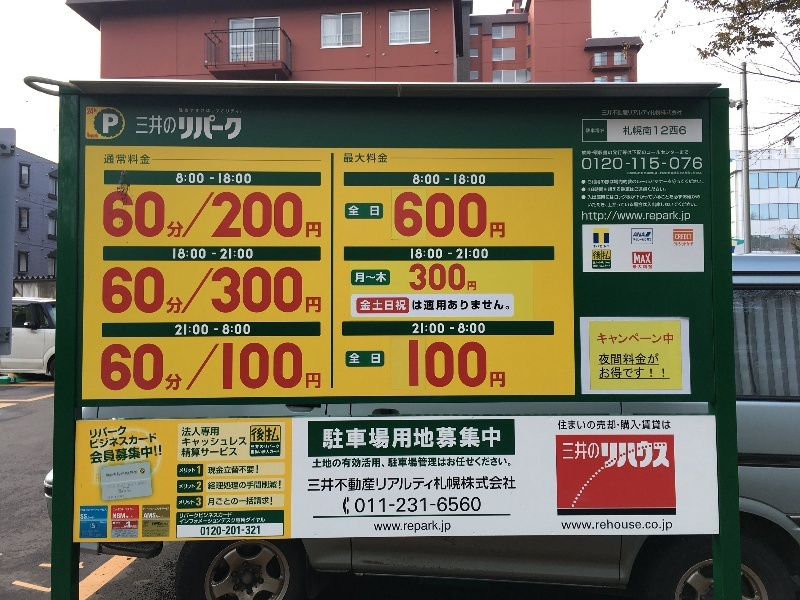text: (305, 343, 321, 392), (305, 268, 321, 315), (113, 343, 128, 392), (129, 343, 144, 392), (145, 343, 160, 392), (161, 343, 176, 392), (177, 343, 192, 392), (193, 343, 208, 392), (209, 343, 224, 392), (225, 343, 240, 392), (241, 343, 256, 392), (257, 343, 272, 392), (273, 343, 288, 392), (289, 343, 304, 392), (417, 340, 432, 388), (433, 340, 448, 388), (449, 340, 464, 388), (465, 340, 480, 388), (481, 340, 496, 388), (401, 192, 416, 239), (417, 192, 432, 239), (433, 192, 448, 239), (449, 192, 464, 239), (465, 192, 480, 239), (481, 192, 496, 239), (113, 192, 128, 239), (129, 192, 144, 239), (145, 192, 160, 239), (161, 192, 176, 239), (177, 192, 192, 239), (193, 192, 208, 239), (209, 192, 224, 239), (225, 192, 240, 239), (241, 192, 256, 239), (257, 192, 272, 239), (273, 192, 288, 239), (289, 192, 304, 239), (305, 192, 320, 239), (113, 268, 128, 315), (129, 268, 144, 315), (145, 268, 160, 315), (161, 268, 176, 315), (177, 268, 192, 315), (193, 268, 208, 315), (209, 268, 224, 315), (225, 268, 240, 315), (241, 268, 256, 315), (257, 268, 272, 315), (273, 268, 288, 315), (289, 268, 304, 315), (102, 343, 112, 392), (103, 268, 112, 315), (577, 441, 592, 469), (593, 441, 608, 469), (609, 441, 624, 469), (625, 441, 640, 469), (641, 441, 656, 469), (417, 264, 432, 291), (433, 264, 448, 291), (449, 264, 464, 291), (145, 115, 160, 141), (161, 115, 176, 141), (177, 115, 192, 141), (193, 115, 208, 141), (209, 115, 224, 141), (225, 115, 240, 141), (497, 340, 505, 388), (497, 192, 505, 239), (563, 441, 576, 469), (337, 427, 352, 451), (353, 427, 368, 451), (369, 427, 384, 451), (385, 427, 400, 451), (401, 427, 416, 451), (417, 427, 432, 451), (433, 427, 448, 451), (449, 427, 464, 451), (465, 427, 480, 451), (481, 427, 496, 451), (657, 441, 669, 469), (409, 340, 416, 388), (322, 427, 336, 451), (105, 192, 112, 239), (97, 444, 112, 465), (113, 444, 128, 465), (129, 444, 144, 465), (145, 444, 160, 465), (465, 264, 476, 291), (394, 192, 400, 239), (465, 497, 481, 513), (321, 476, 336, 493), (337, 476, 352, 493), (353, 476, 368, 493), (369, 476, 384, 493), (385, 476, 400, 493), (401, 476, 416, 493), (417, 476, 432, 493), (433, 476, 448, 493), (449, 476, 464, 493), (465, 476, 480, 493), (481, 476, 496, 493), (497, 476, 512, 493), (97, 433, 112, 450), (113, 433, 128, 450), (129, 433, 144, 450), (369, 497, 384, 513), (385, 497, 400, 513), (401, 497, 416, 513), (417, 497, 432, 513), (433, 497, 448, 513), (449, 497, 464, 513), (257, 428, 272, 442), (97, 425, 112, 439), (136, 115, 144, 141), (308, 476, 320, 493), (145, 433, 157, 450), (385, 520, 400, 533), (401, 520, 416, 533), (417, 520, 432, 533), (433, 520, 448, 533), (609, 353, 624, 366), (625, 353, 640, 366), (641, 353, 656, 366), (321, 457, 336, 470), (337, 457, 352, 470), (353, 457, 368, 470), (369, 457, 384, 470), (385, 457, 400, 470), (401, 457, 416, 470), (417, 457, 432, 470), (433, 457, 448, 470), (449, 457, 464, 470), (465, 457, 480, 470), (481, 457, 496, 470), (356, 497, 368, 513), (657, 519, 673, 531), (409, 264, 416, 291), (497, 457, 511, 470), (113, 425, 126, 439), (577, 519, 592, 531), (593, 519, 608, 531), (609, 519, 624, 531), (625, 519, 640, 531), (641, 519, 656, 531), (609, 333, 624, 345), (625, 333, 640, 345), (641, 333, 656, 345), (657, 333, 672, 345), (593, 158, 608, 170), (609, 158, 624, 170), (625, 158, 640, 170), (641, 158, 656, 170), (657, 158, 672, 170), (673, 158, 688, 170), (103, 114, 112, 133), (562, 519, 576, 531), (689, 158, 703, 170), (609, 368, 624, 379), (625, 368, 640, 379), (641, 368, 656, 379), (417, 174, 432, 185), (433, 174, 448, 185), (449, 174, 464, 185), (465, 174, 480, 185), (417, 248, 432, 259), (433, 248, 448, 259), (449, 248, 464, 259), (465, 248, 480, 259), (369, 272, 384, 283), (369, 300, 384, 311), (385, 300, 400, 311), (417, 300, 432, 311), (433, 300, 448, 311), (449, 300, 464, 311), (465, 300, 480, 311), (481, 300, 496, 311), (353, 353, 368, 364), (113, 154, 128, 165), (129, 154, 144, 165), (177, 173, 192, 184), (193, 173, 208, 184), (209, 173, 224, 184), (225, 173, 240, 184), (177, 249, 192, 260), (193, 249, 208, 260), (209, 249, 224, 260), (225, 249, 240, 260), (177, 324, 192, 335), (193, 324, 208, 335), (209, 324, 224, 335), (225, 324, 240, 335), (209, 525, 224, 536), (225, 525, 240, 536), (241, 525, 256, 536), (561, 420, 576, 430), (577, 420, 592, 430), (593, 420, 608, 430), (609, 420, 624, 430), (625, 420, 640, 430), (641, 420, 656, 430), (593, 211, 608, 221), (609, 211, 624, 221), (625, 211, 640, 221), (641, 211, 656, 221), (657, 211, 672, 221), (673, 211, 688, 221), (625, 126, 640, 136), (641, 126, 656, 136), (657, 126, 672, 136), (353, 206, 368, 216), (417, 324, 432, 334), (433, 324, 448, 334), (449, 324, 464, 334), (465, 324, 480, 334), (193, 427, 208, 437), (193, 447, 208, 457), (209, 447, 224, 457), (209, 465, 224, 475), (225, 465, 240, 475), (241, 465, 256, 475), (355, 272, 368, 283), (657, 420, 671, 430), (593, 251, 608, 260), (353, 154, 368, 163), (369, 154, 384, 163), (193, 437, 208, 446), (209, 437, 224, 446), (225, 437, 240, 446), (209, 497, 224, 506), (225, 497, 240, 506), (241, 497, 256, 506), (257, 497, 272, 506), (209, 481, 224, 490), (225, 481, 240, 490), (241, 481, 256, 490), (257, 481, 272, 490), (597, 333, 608, 345), (497, 300, 509, 311), (241, 249, 253, 260), (374, 520, 384, 533), (598, 353, 608, 366), (673, 126, 686, 136), (225, 447, 238, 457), (179, 497, 192, 507), (90, 444, 96, 465), (369, 353, 380, 364), (241, 173, 252, 184), (582, 158, 592, 170), (497, 427, 502, 451), (193, 517, 208, 525), (209, 517, 224, 525), (225, 517, 240, 525), (241, 517, 256, 525), (179, 481, 192, 490), (113, 114, 119, 133), (312, 457, 320, 470), (179, 517, 192, 525), (179, 466, 192, 474), (90, 433, 96, 450), (641, 253, 651, 263), (582, 211, 592, 221), (369, 206, 379, 216), (182, 427, 192, 437), (209, 427, 219, 437), (182, 447, 192, 457), (599, 368, 608, 379), (241, 324, 250, 335), (89, 425, 96, 439), (673, 150, 689, 156), (609, 110, 624, 116), (625, 110, 640, 116), (641, 110, 656, 116), (657, 110, 672, 116), (593, 150, 608, 156), (609, 150, 624, 156), (625, 150, 640, 156), (641, 150, 656, 156), (657, 150, 672, 156), (593, 179, 608, 185), (609, 179, 624, 185), (625, 179, 640, 185), (641, 179, 656, 185), (657, 179, 672, 185), (673, 179, 688, 185), (689, 179, 704, 185), (193, 512, 208, 518), (209, 512, 224, 518), (182, 437, 192, 446), (145, 513, 160, 519), (113, 513, 128, 519), (81, 514, 96, 520), (360, 300, 368, 311), (104, 154, 112, 165), (273, 428, 279, 442), (193, 481, 202, 490), (193, 497, 201, 507), (675, 234, 688, 240), (657, 368, 664, 379), (481, 248, 488, 259), (201, 525, 208, 536), (593, 187, 608, 192), (609, 187, 624, 192), (625, 187, 640, 192), (641, 187, 656, 192), (593, 195, 608, 200), (609, 195, 624, 200), (625, 195, 640, 200), (641, 195, 656, 200), (657, 195, 672, 200), (673, 195, 688, 200), (593, 202, 608, 207), (609, 202, 624, 207), (625, 202, 640, 207), (641, 202, 656, 207), (657, 202, 672, 207), (673, 202, 688, 207), (193, 108, 208, 113), (225, 109, 240, 114), (257, 449, 272, 454), (593, 128, 605, 134), (344, 154, 352, 163), (180, 512, 192, 518), (257, 517, 266, 525), (273, 481, 281, 490), (251, 428, 256, 442), (193, 466, 201, 474), (87, 108, 96, 115), (634, 253, 640, 263), (582, 150, 592, 156), (689, 195, 701, 200), (180, 108, 192, 113), (257, 445, 272, 449), (145, 507, 160, 511), (674, 242, 688, 246), (130, 470, 144, 474), (481, 174, 486, 185), (411, 248, 416, 259), (401, 300, 406, 311), (145, 154, 150, 165), (673, 110, 682, 116), (241, 437, 247, 446), (513, 476, 516, 493), (657, 187, 667, 192), (641, 265, 653, 269), (88, 133, 96, 139), (321, 192, 322, 239), (641, 172, 656, 175), (673, 172, 688, 175), (113, 508, 128, 511), (81, 509, 96, 512), (641, 238, 652, 242), (412, 300, 416, 311), (594, 245, 608, 248), (689, 172, 703, 175), (225, 512, 232, 518), (689, 202, 697, 207), (348, 206, 352, 216), (412, 324, 416, 334), (481, 324, 485, 334), (216, 109, 224, 114), (118, 484, 128, 488), (129, 522, 137, 527), (627, 172, 640, 175), (602, 110, 608, 116), (586, 128, 592, 134), (660, 172, 672, 175), (116, 495, 128, 498), (161, 507, 170, 511), (116, 522, 128, 525), (100, 521, 112, 524), (129, 482, 136, 487), (413, 174, 416, 185), (349, 353, 352, 364), (257, 525, 260, 536), (117, 472, 128, 475), (593, 262, 608, 264), (593, 265, 608, 267), (273, 449, 279, 454), (106, 473, 112, 478), (138, 481, 144, 486), (145, 530, 160, 532), (145, 533, 160, 535), (113, 527, 128, 529), (81, 536, 96, 538), (97, 509, 107, 512), (633, 265, 640, 269), (633, 238, 640, 242), (82, 534, 96, 536), (385, 154, 388, 163), (449, 520, 451, 533), (657, 353, 659, 366), (241, 115, 242, 141), (163, 523, 176, 525), (83, 531, 96, 533), (251, 449, 256, 454), (634, 233, 640, 237), (588, 179, 592, 185), (273, 445, 279, 449), (152, 522, 160, 525), (129, 513, 133, 519), (92, 523, 96, 529), (174, 249, 176, 260), (161, 444, 162, 465), (558, 420, 560, 430), (689, 242, 694, 246), (689, 211, 691, 221), (588, 187, 592, 192), (588, 195, 592, 200), (588, 202, 592, 207), (209, 108, 213, 113), (251, 445, 256, 449), (107, 485, 112, 489), (124, 522, 128, 527), (689, 234, 692, 240), (129, 508, 135, 511), (97, 536, 106, 538), (641, 233, 645, 237), (124, 489, 128, 493), (129, 527, 137, 529), (113, 473, 116, 478), (161, 526, 168, 528), (145, 535, 152, 537), (82, 533, 96, 534), (673, 333, 674, 345), (97, 133, 99, 139), (129, 489, 132, 493), (108, 496, 112, 499), (161, 513, 163, 519), (161, 530, 167, 532), (385, 272, 386, 283), (175, 324, 176, 335), (623, 126, 624, 136), (257, 465, 258, 475), (145, 481, 147, 486), (123, 488, 128, 490), (161, 533, 166, 535), (609, 251, 610, 260), (142, 470, 144, 474), (113, 485, 115, 489), (145, 525, 149, 527), (97, 534, 101, 536), (657, 172, 659, 175), (157, 526, 160, 528), (161, 535, 167, 536), (241, 109, 242, 114), (609, 262, 611, 264), (609, 265, 611, 267), (143, 507, 144, 511), (97, 531, 99, 533), (129, 472, 130, 475), (113, 496, 114, 499), (157, 535, 160, 536), (161, 522, 162, 525), (127, 487, 128, 489), (129, 487, 130, 489)
